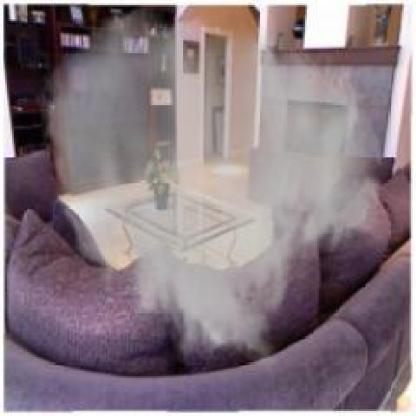Smoke: (37, 5, 387, 374)
